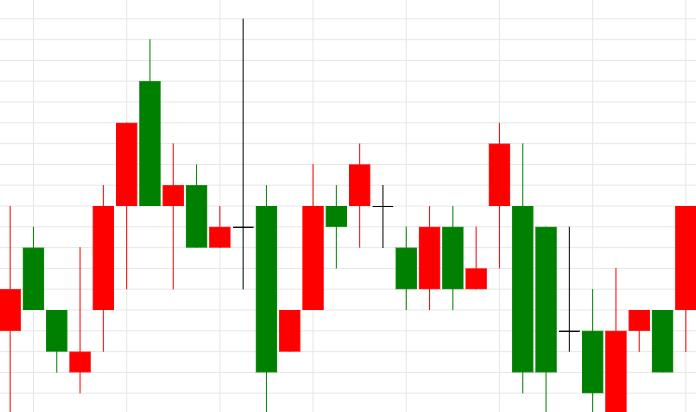bullish_engulfing_rise: (488, 123, 627, 412)
three_white_soldiers_rise: (0, 122, 138, 412)
